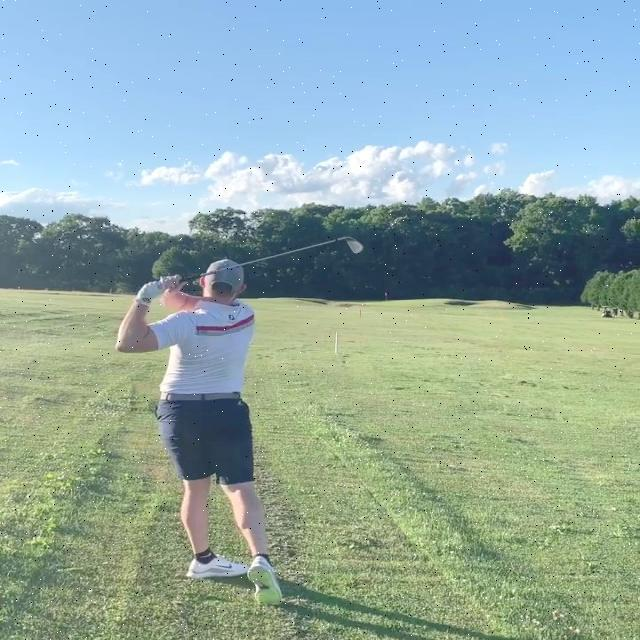ClubHandle: (141, 234, 367, 293)
ClubHead: (345, 237, 365, 255)
